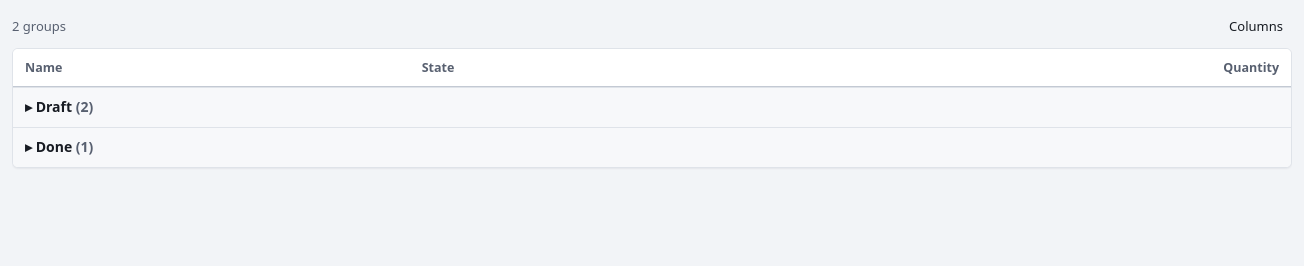
it: list view extras › groups rows, expands a group and shows counts
Expected: the text "2 groups" is shown, [12, 17, 66, 35]
Click the button "▸ Draft (2)": (59, 107) [25, 97, 93, 117]
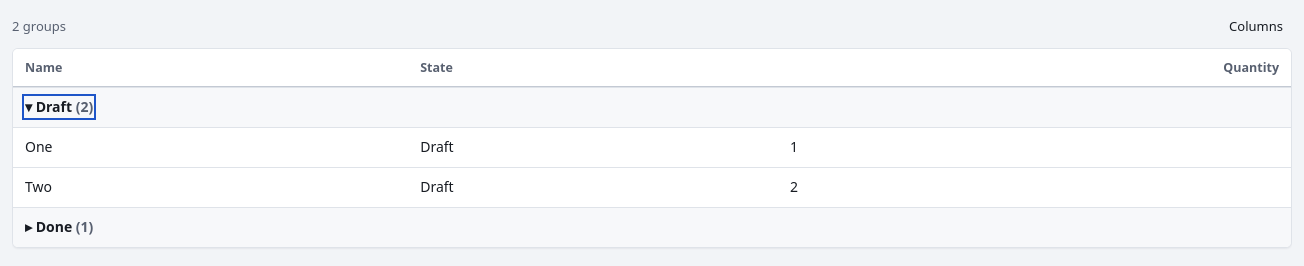
Expected: the text "Two" is shown, [13, 167, 408, 207]
